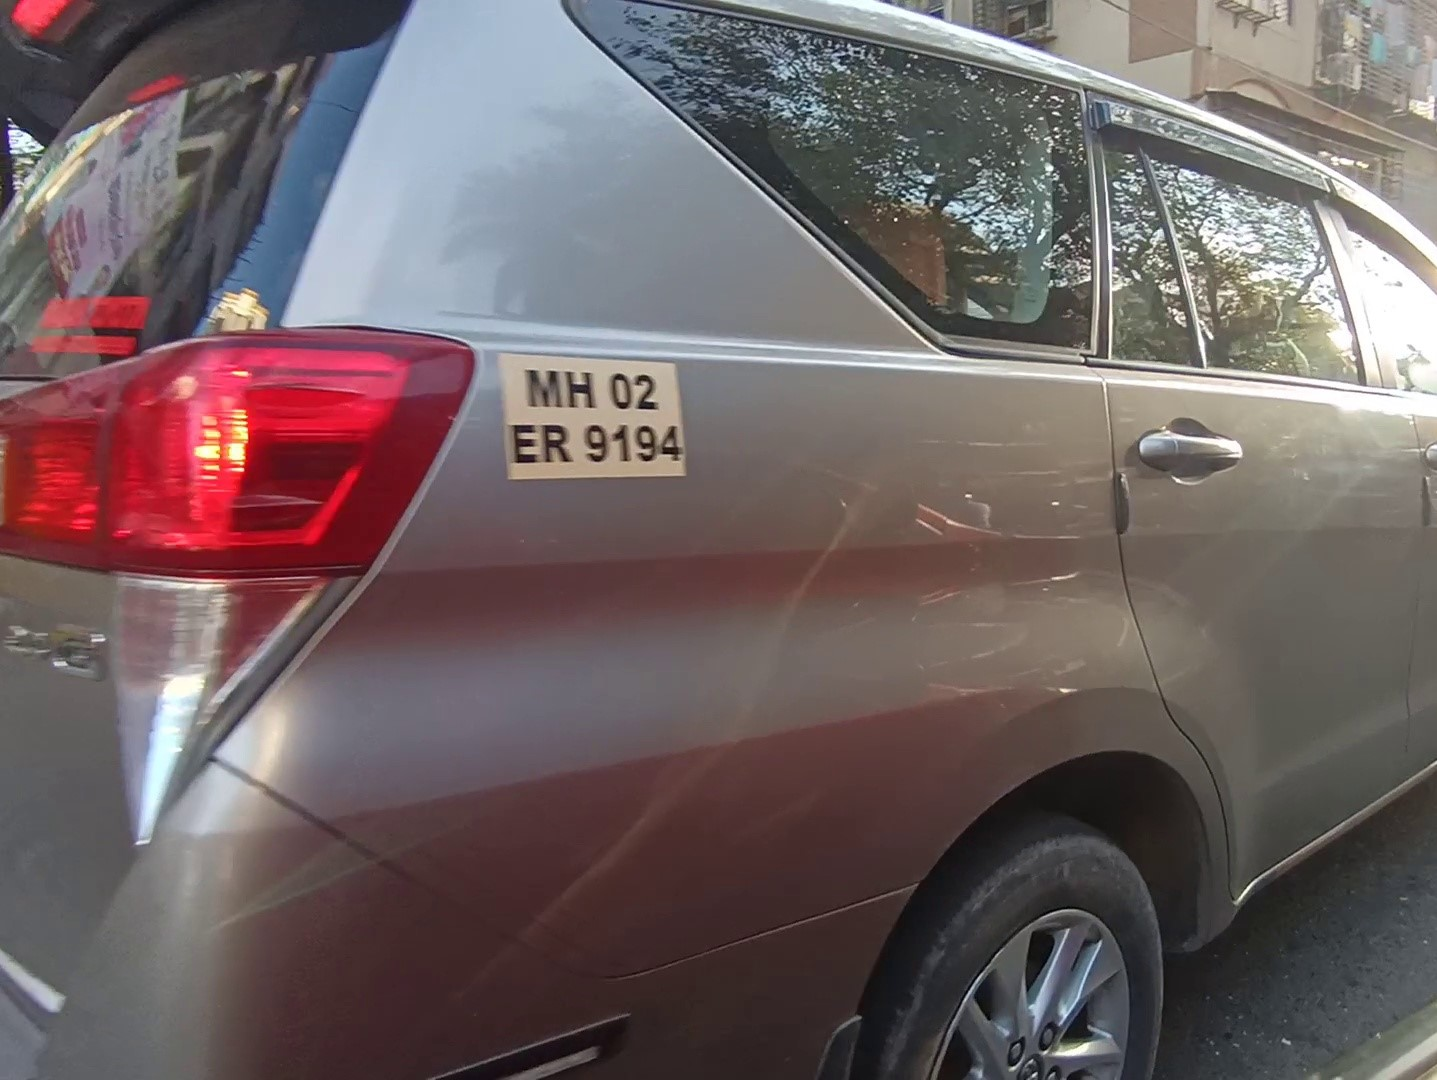MH02ER9194: (502, 352, 685, 477)
